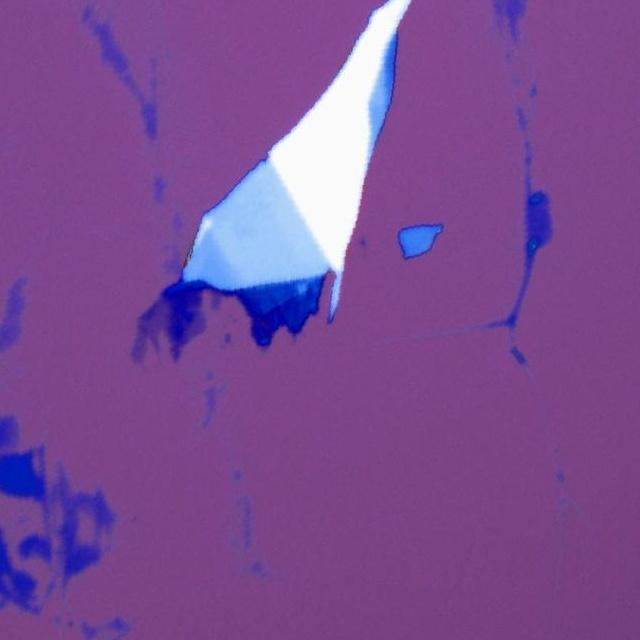monolayer-eWW4: (134, 304, 164, 362), (186, 307, 208, 345)
